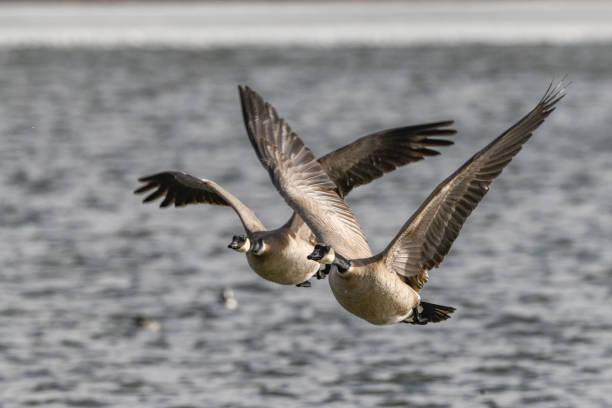Canadian-Goose: (235, 80, 559, 331), (135, 117, 456, 282)
